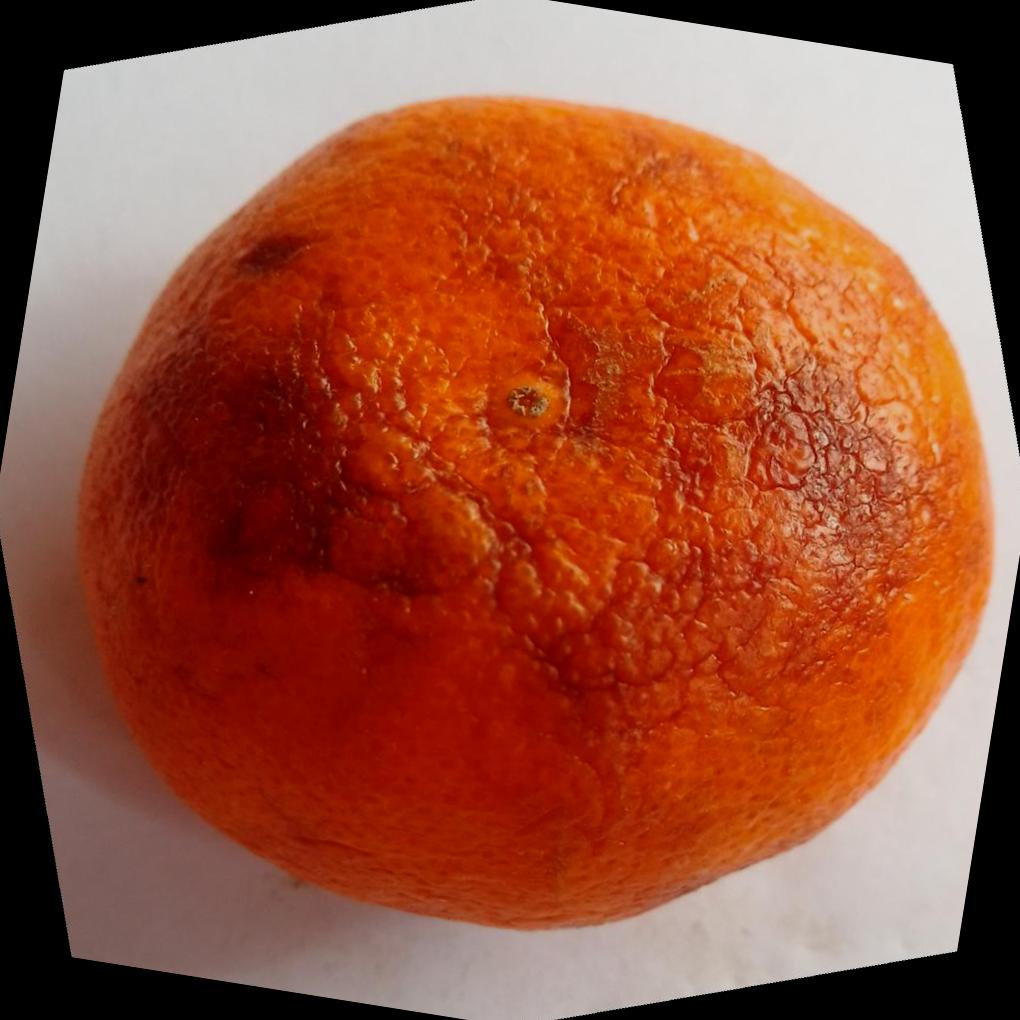FreshOrange: (71, 92, 997, 934)
